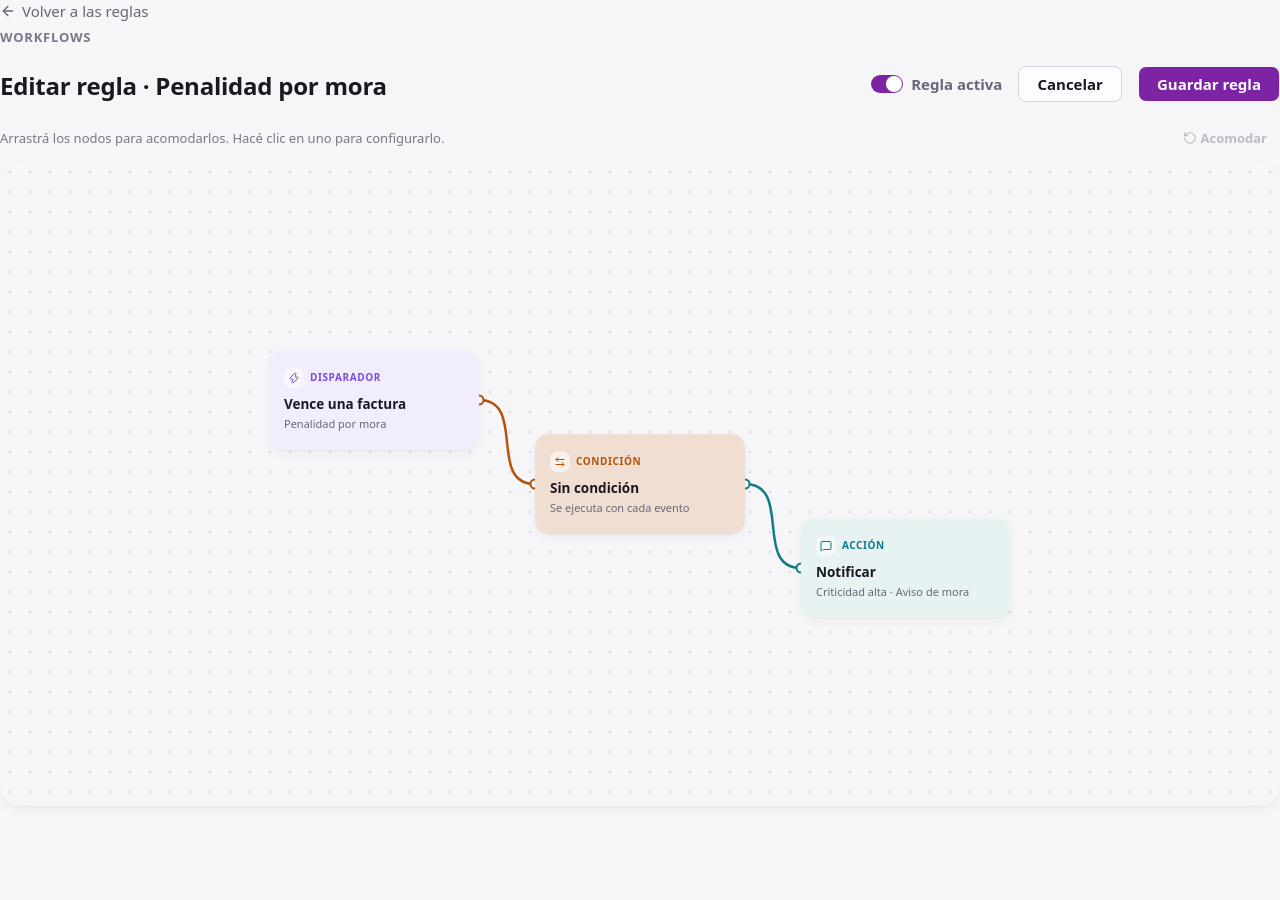
it: ReglaWorkflowEditorPage › plantilla y destinatarios › ofrece crear y editar plantillas según los permisos
Click the button "Acción Notificar Criticidad alta · Aviso de mora" at (906,568), box [801,518,1011,618]
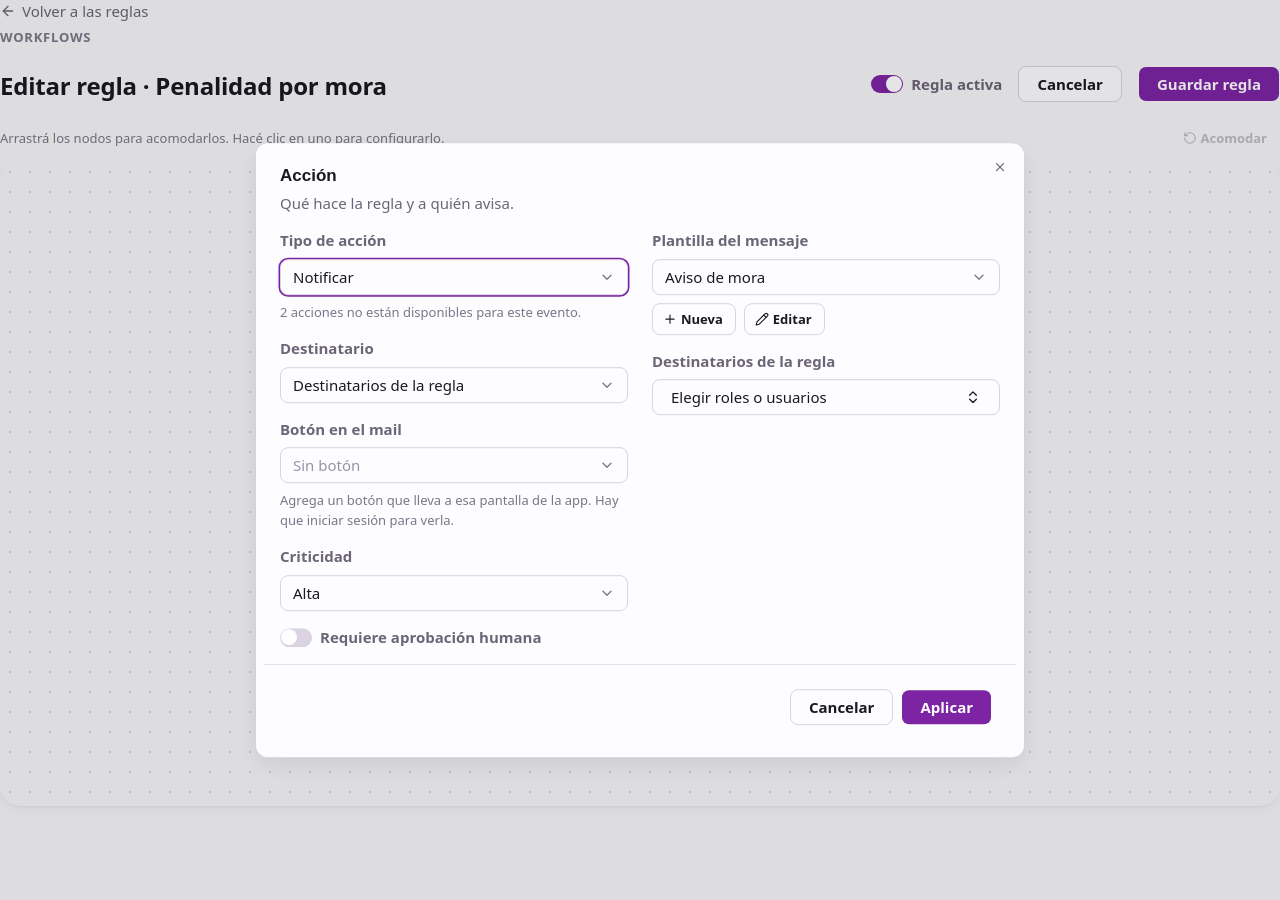
expect the button "Nueva" is enabled: met, box [652,303,736,335]
expect the button "Editar" is enabled: met, box [744,303,825,335]
